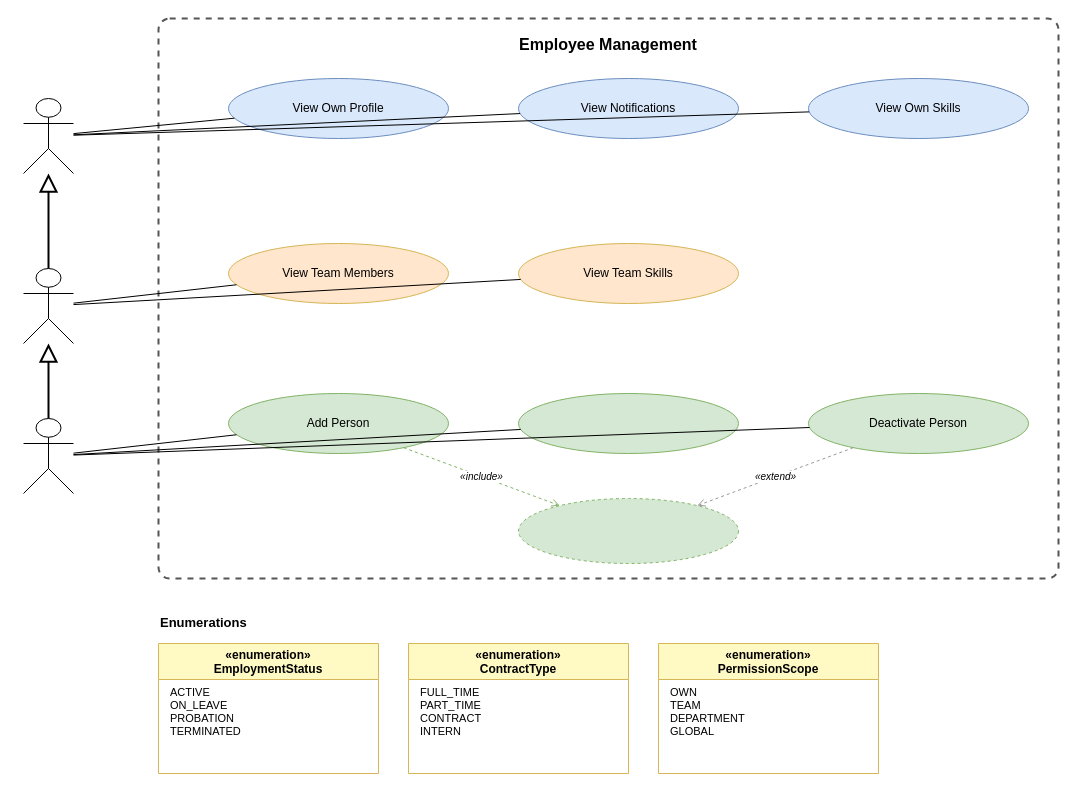
The diagram is 1077 pixels wide and 791 high, and some of its shapes have lost their labels. Each missing label, with the centre of its shape:
"Assign / Change Profile Role" goes at (x=628, y=531).
"Edit Person" goes at (x=628, y=423).
"Employee" goes at (x=48, y=136).
"HR Admin" goes at (x=48, y=456).
"Manager" goes at (x=48, y=306).
